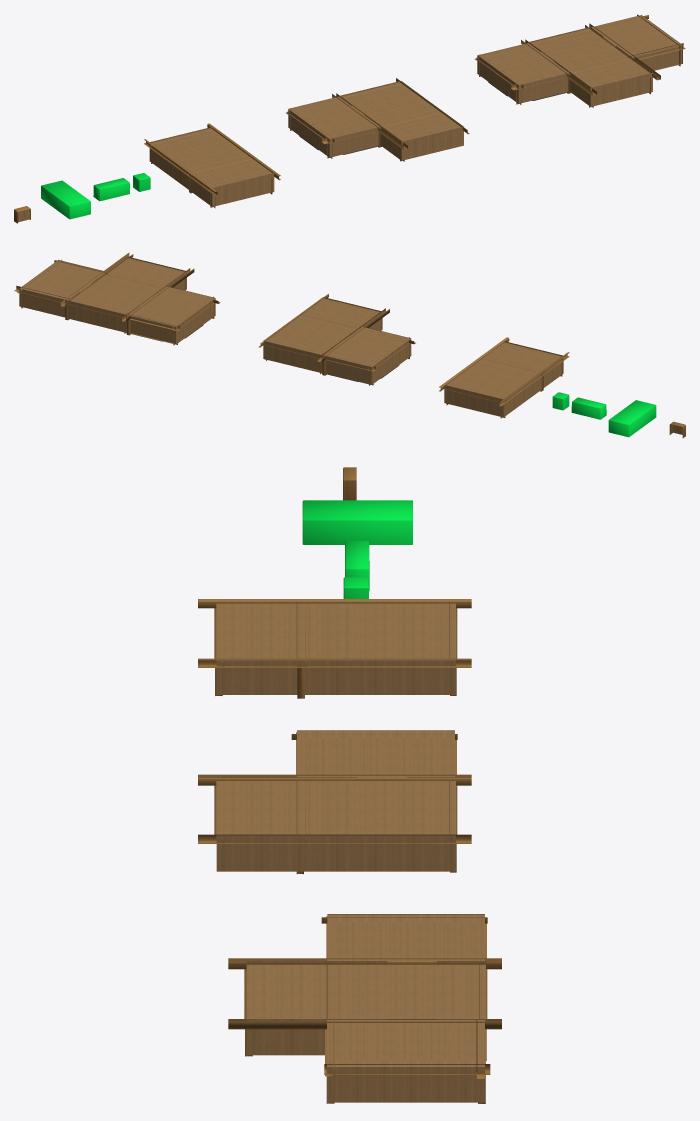
File: in_aquarium.fbx
3 views of the same model, one above another, from view 1: azimuth 30°, elevation 25°; view 2: azimuth 150°, elevation 25°; view 3: azimuth 270°, elevation 25° (orthographic). The views are drawn at different scales.
Parts seen in each view (by area): view 1: toplv3, toplv2, lv3, lv2, toplv1, lv1, glass3, glass2; view 2: toplv3, toplv2, lv3, lv2, toplv1, lv1, glass3, glass2; view 3: toplv3, toplv2, toplv1, lv3, lv2, lv1, glass3, glass2.
Boxes of the visible parts, x1=… form: toplv3: x1=478, y1=15, x2=682, y2=87; toplv2: x1=289, y1=82, x2=460, y2=141; lv3: x1=475, y1=14, x2=685, y2=107; lv2: x1=285, y1=78, x2=469, y2=161; toplv1: x1=151, y1=128, x2=271, y2=187; lv1: x1=144, y1=123, x2=280, y2=208; glass3: x1=41, y1=180, x2=90, y2=219; glass2: x1=93, y1=178, x2=129, y2=201; toplv3: x1=20, y1=258, x2=214, y2=326; toplv2: x1=266, y1=298, x2=410, y2=366; lv3: x1=14, y1=252, x2=220, y2=345; lv2: x1=258, y1=294, x2=415, y2=385; toplv1: x1=446, y1=342, x2=561, y2=399; lv1: x1=439, y1=337, x2=569, y2=418; glass3: x1=608, y1=400, x2=656, y2=437; glass2: x1=571, y1=397, x2=606, y2=419; toplv3: x1=246, y1=914, x2=485, y2=1066; toplv2: x1=216, y1=731, x2=455, y2=837; toplv1: x1=216, y1=603, x2=455, y2=658; lv3: x1=228, y1=914, x2=501, y2=1103; lv2: x1=198, y1=730, x2=471, y2=874; lv1: x1=198, y1=599, x2=471, y2=698; glass3: x1=302, y1=500, x2=412, y2=544; glass2: x1=345, y1=541, x2=369, y2=591.
Bounding box in the file's own units: 22978 × 688 × 4748.
Materials: 3 (1 with a texture image).
